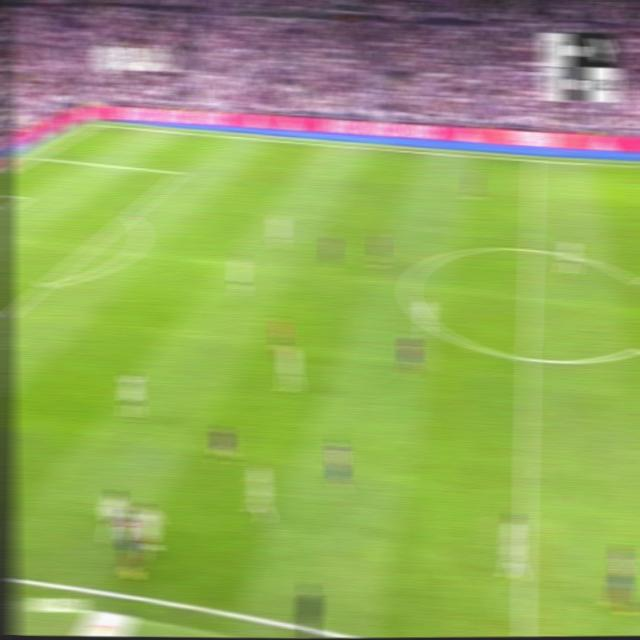bigarea_top_inner: (173, 164, 188, 179)
bigarea_top_outter: (30, 150, 43, 161)
bottom_arc_area_intersection: (38, 276, 54, 292)
corner: (89, 116, 104, 127)
halfcircle_bottom: (519, 346, 537, 370)
halfcircle_top: (522, 238, 539, 259)
midline_top_intersection: (527, 153, 540, 167)
smallarea_top_inner: (19, 191, 32, 203)
top_arc_area_intersection: (122, 208, 136, 222)
